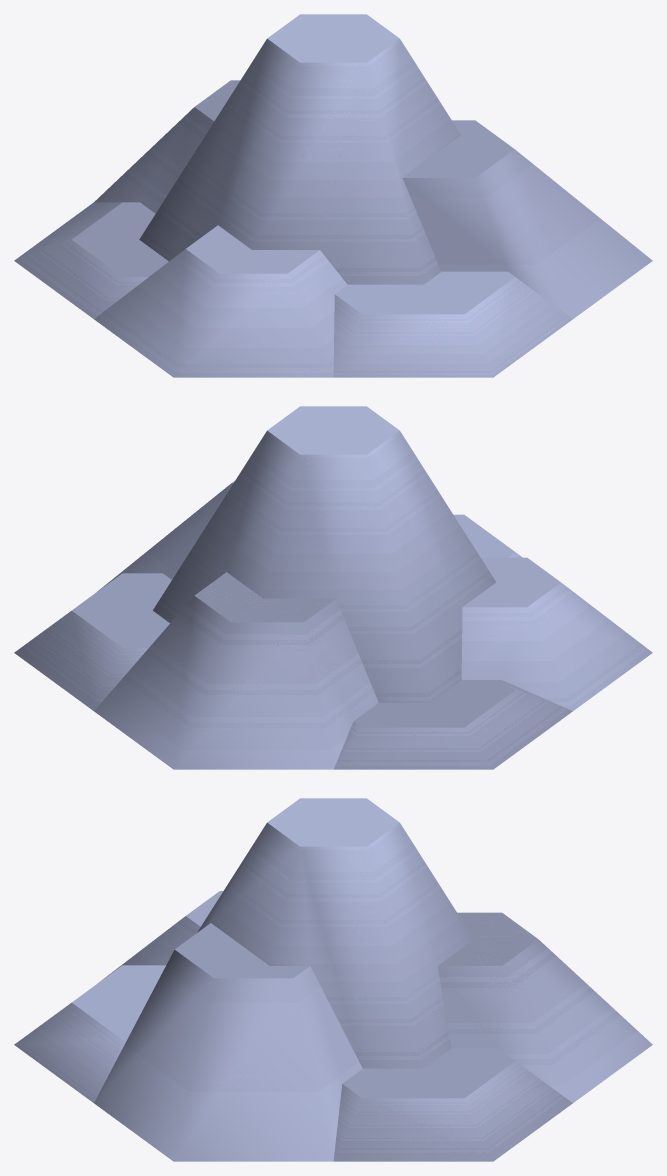
Rendered from hx_stone-hill.glb.
3 renders of one model, top to bottom at view 1: azimuth 30°, elevation 25°; view 2: azimuth 150°, elevation 25°; view 3: azimuth 270°, elevation 25°, orthographic.
Bounding box in the file's own units: 1 × 0.4432 × 1.15.
1 material, 1 textured.
